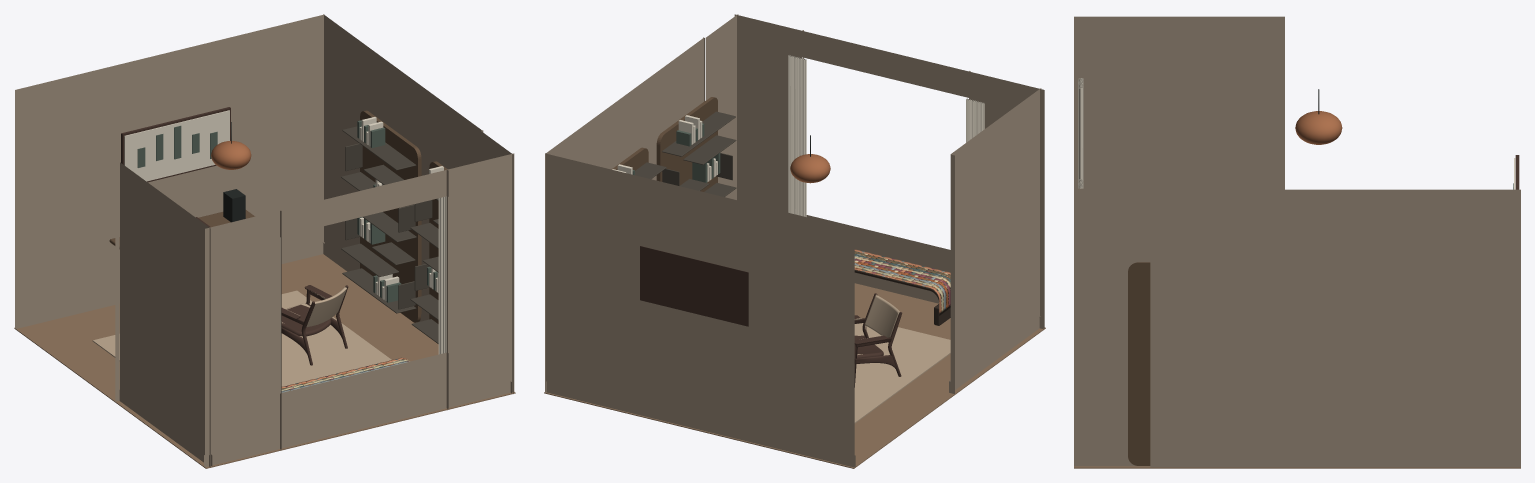
The model's file is formal-2.glb.
3 views of the same model, side by side, from view 1: azimuth 30°, elevation 25°; view 2: azimuth 150°, elevation 25°; view 3: azimuth 270°, elevation 25° (orthographic). The views are drawn at different scales.
Parts seen in each view (by area): view 1: DESIGN | formal removable wall finish, DESIGN | formal floor finish, DESIGN | Required Blabla bookcase 2, DESIGN | Formal ground, DESIGN | Textile artwork, DESIGN | Listening chair two, DESIGN | Required Blabla bookcase 1, DESIGN | Formal soft window edge.001, DESIGN | Atelier pendant shade, DESIGN | Required Brera anniversary window bench, DESIGN | Quiet artwork frame, DESIGN | Compact speaker.001; view 2: DESIGN | formal removable wall finish, DESIGN | formal floor finish, DESIGN | Quiet artwork frame, DESIGN | Formal ground, DESIGN | Required Blabla bookcase 1, DESIGN | Required Brera anniversary window bench, DESIGN | Formal soft window edge.001, DESIGN | Listening chair one, DESIGN | Atelier pendant shade, DESIGN | Required Blabla bookcase 2, DESIGN | Formal soft window edge; view 3: DESIGN | formal removable wall finish, DESIGN | Required Blabla bookcase 1, DESIGN | Atelier pendant shade, DESIGN | formal floor finish, DESIGN | Formal soft window edge.
Part boxes in pixels (<box>): DESIGN | formal removable wall finish: <box>15,14,514,466</box>; DESIGN | formal floor finish: <box>14,254,515,468</box>; DESIGN | Required Blabla bookcase 2: <box>341,110,421,322</box>; DESIGN | Formal ground: <box>92,290,391,386</box>; DESIGN | Textile artwork: <box>124,110,229,181</box>; DESIGN | Listening chair two: <box>281,285,348,365</box>; DESIGN | Required Blabla bookcase 1: <box>410,161,447,343</box>; DESIGN | Formal soft window edge.001: <box>438,196,446,354</box>; DESIGN | Atelier pendant shade: <box>211,141,251,169</box>; DESIGN | Required Brera anniversary window bench: <box>281,357,409,392</box>; DESIGN | Quiet artwork frame: <box>121,107,230,182</box>; DESIGN | Compact speaker.001: <box>223,189,245,222</box>; DESIGN | formal removable wall finish: <box>545,14,1044,467</box>; DESIGN | formal floor finish: <box>544,283,1045,468</box>; DESIGN | Quiet artwork frame: <box>640,246,748,326</box>; DESIGN | Formal ground: <box>854,318,950,423</box>; DESIGN | Required Blabla bookcase 1: <box>656,97,736,196</box>; DESIGN | Required Brera anniversary window bench: <box>854,249,950,325</box>; DESIGN | Formal soft window edge.001: <box>788,55,806,216</box>; DESIGN | Listening chair one: <box>854,293,902,387</box>; DESIGN | Atelier pendant shade: <box>790,154,830,183</box>; DESIGN | Required Blabla bookcase 2: <box>611,147,666,178</box>; DESIGN | Formal soft window edge: <box>966,98,984,142</box>; DESIGN | formal removable wall finish: <box>1074,16,1520,467</box>; DESIGN | Required Blabla bookcase 1: <box>1128,262,1150,465</box>; DESIGN | Atelier pendant shade: <box>1295,111,1342,144</box>; DESIGN | formal floor finish: <box>1074,466,1520,468</box>; DESIGN | Formal soft window edge: <box>1078,78,1083,181</box>.
Size of the model in its own units: 3.71 by 2.74 by 3.98.
